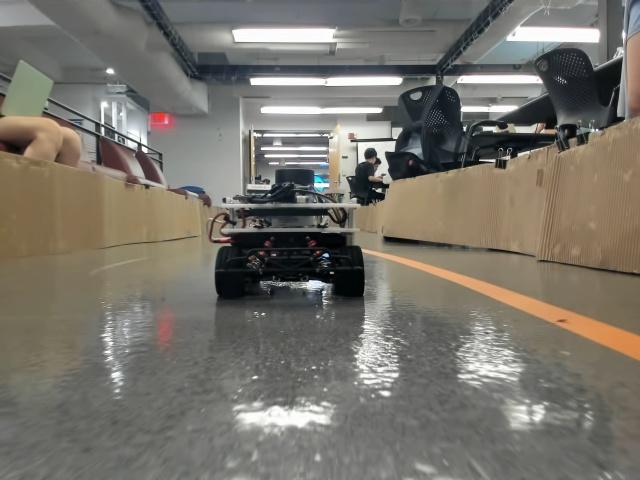Car: (214, 167, 364, 298)
